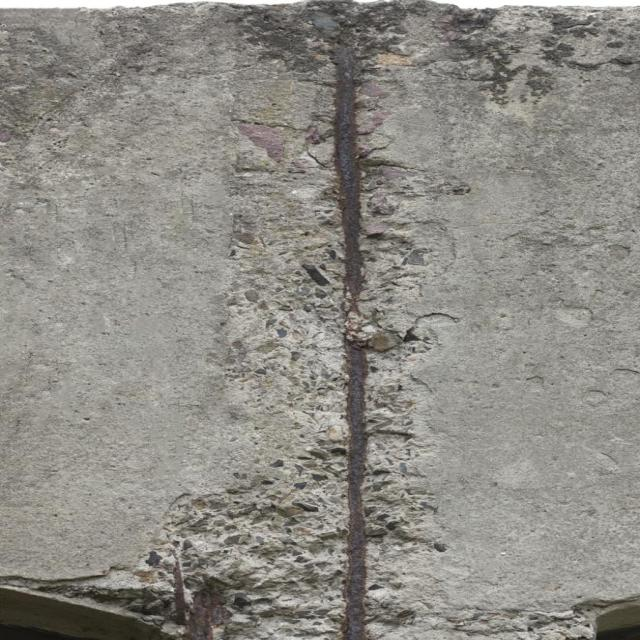Rebar: (0, 32, 593, 639)
